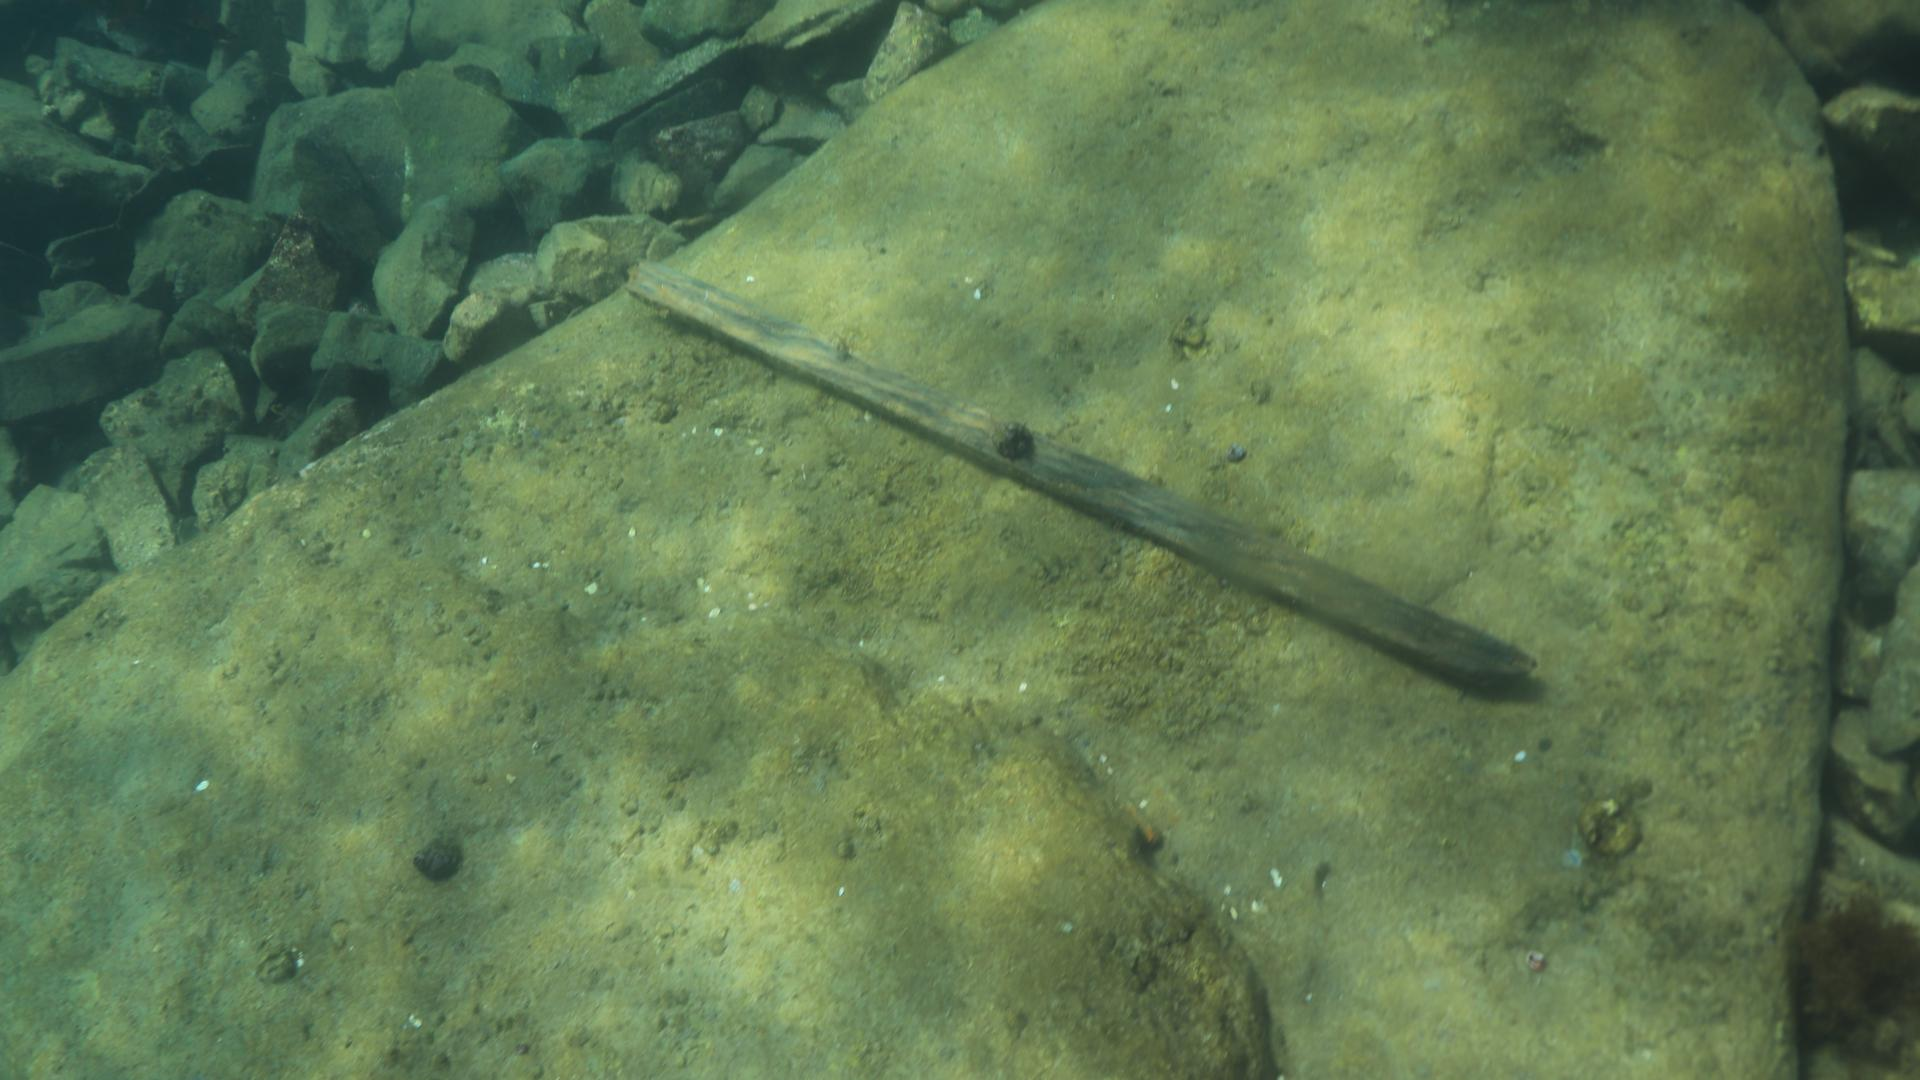wood: (622, 258, 1539, 688)
